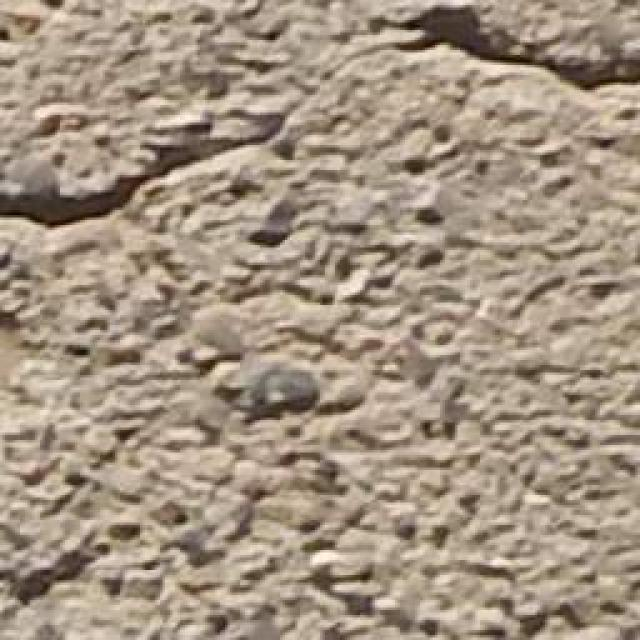concrete-crack: (0, 0, 640, 241)
